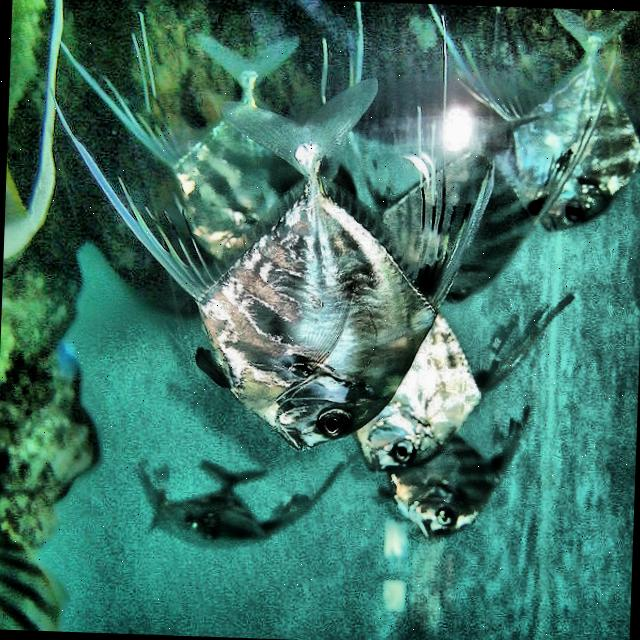fish: (36, 66, 498, 458), (421, 4, 640, 234), (336, 282, 576, 480), (366, 401, 531, 544), (125, 449, 348, 554)
